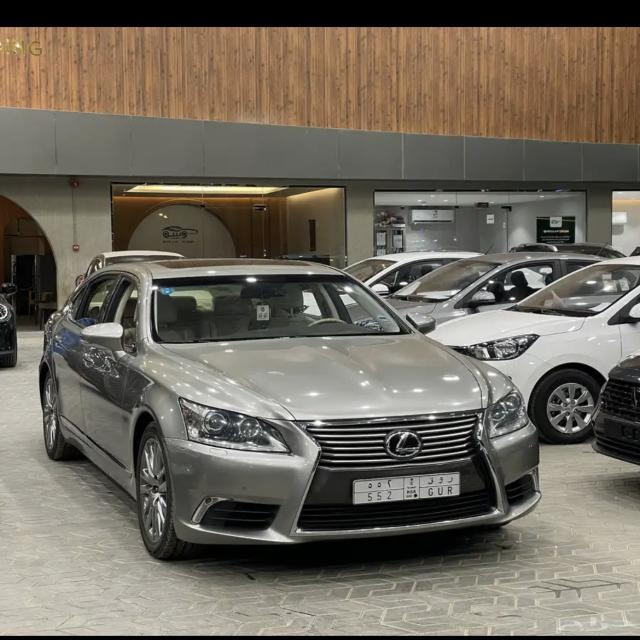license_plate: (353, 471, 461, 505)
